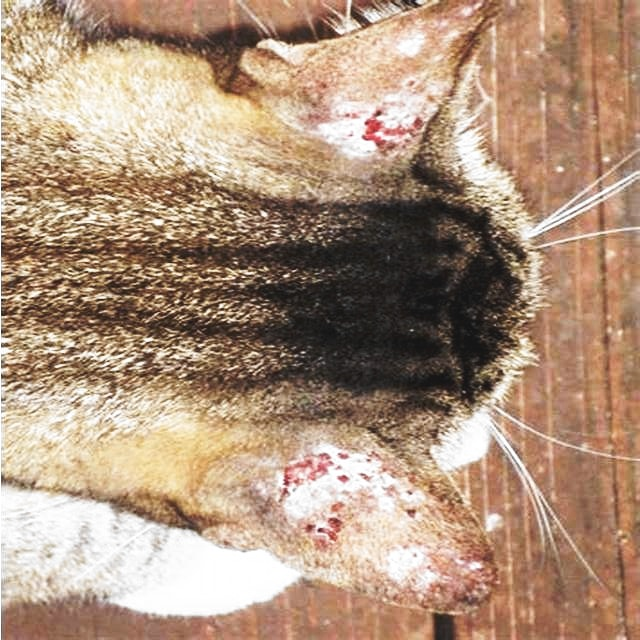ringworm: (274, 432, 441, 552), (334, 39, 456, 161)
